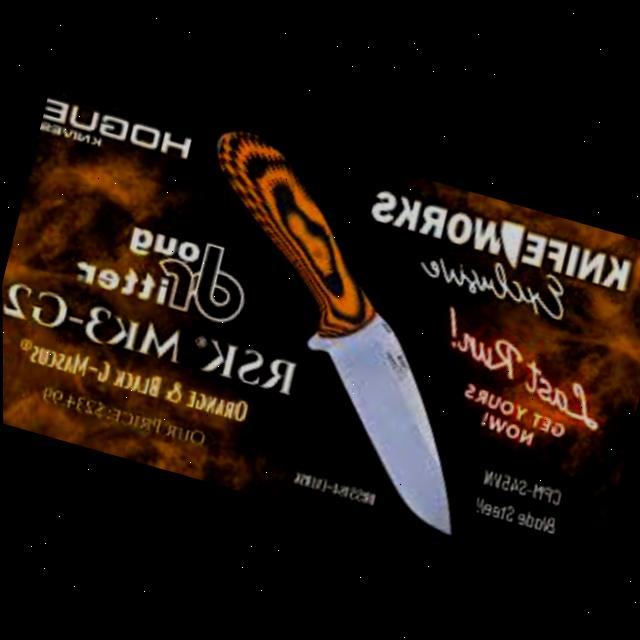knife: (140, 118, 535, 534)
